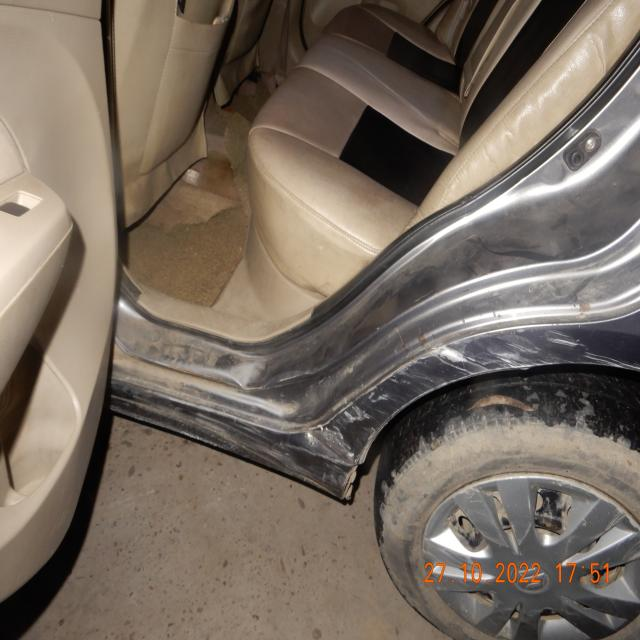damage: (300, 359, 437, 495), (117, 383, 282, 464), (421, 328, 629, 366)
